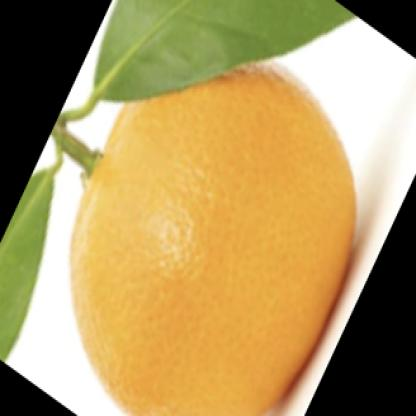fresh: (69, 60, 355, 416)
